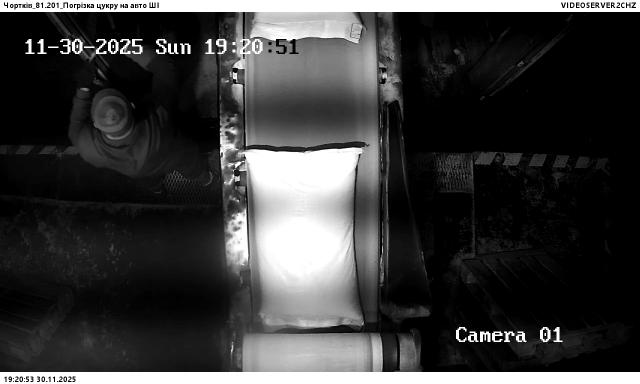bag: (242, 148, 368, 327), (252, 13, 368, 43)
